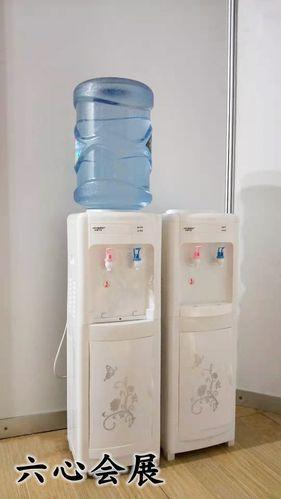Dispenser: (65, 75, 160, 473), (159, 209, 239, 460)
